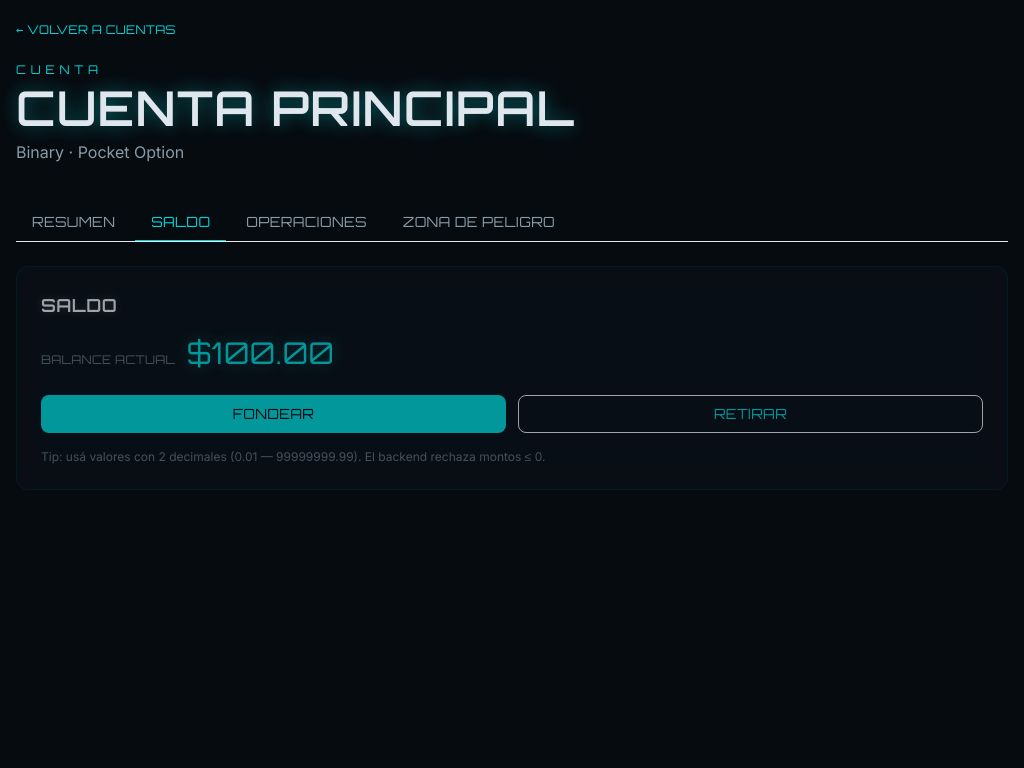
it: CuentasDetailPage › withdraw exceeding balance keeps submit disabled
Note: The first "Retirar" is the Saldo tab card — opens the modal.
Click the button "Retirar" at x=750, y=414, box [518,395,983,433]
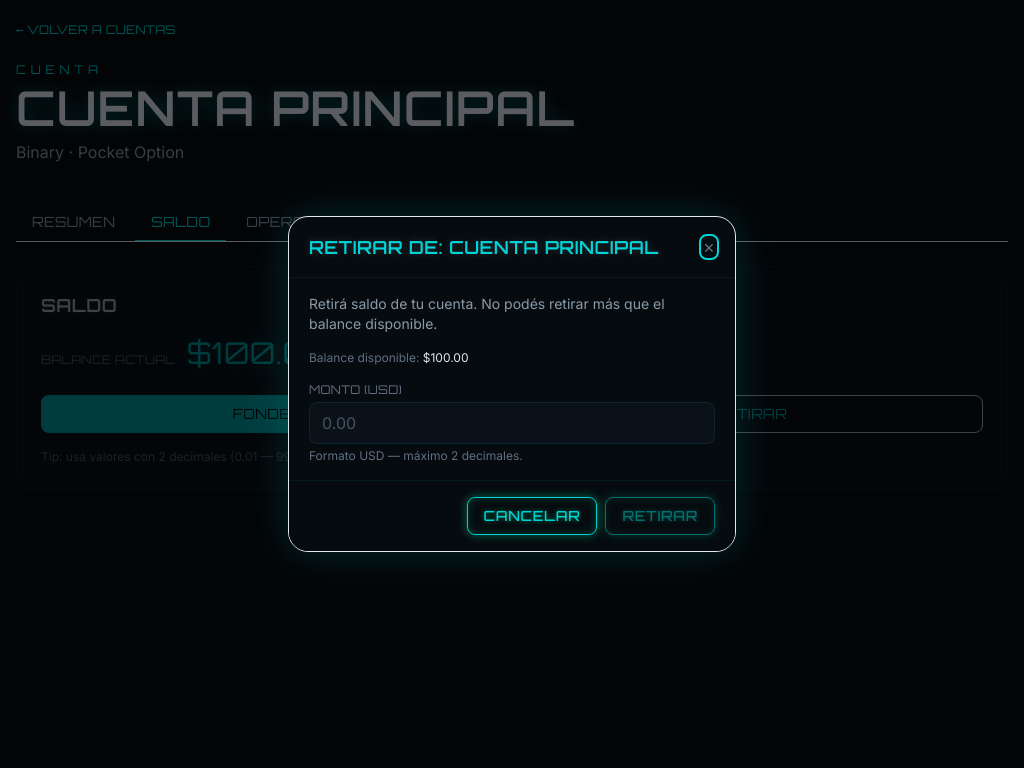
Check: the dialog "Retirar de: Cuenta principal" is shown
Type "500" into the number field labelled "Monto (USD) Formato USD — máximo 2 decimales." at x=512, y=423, box [309,402,715,444]
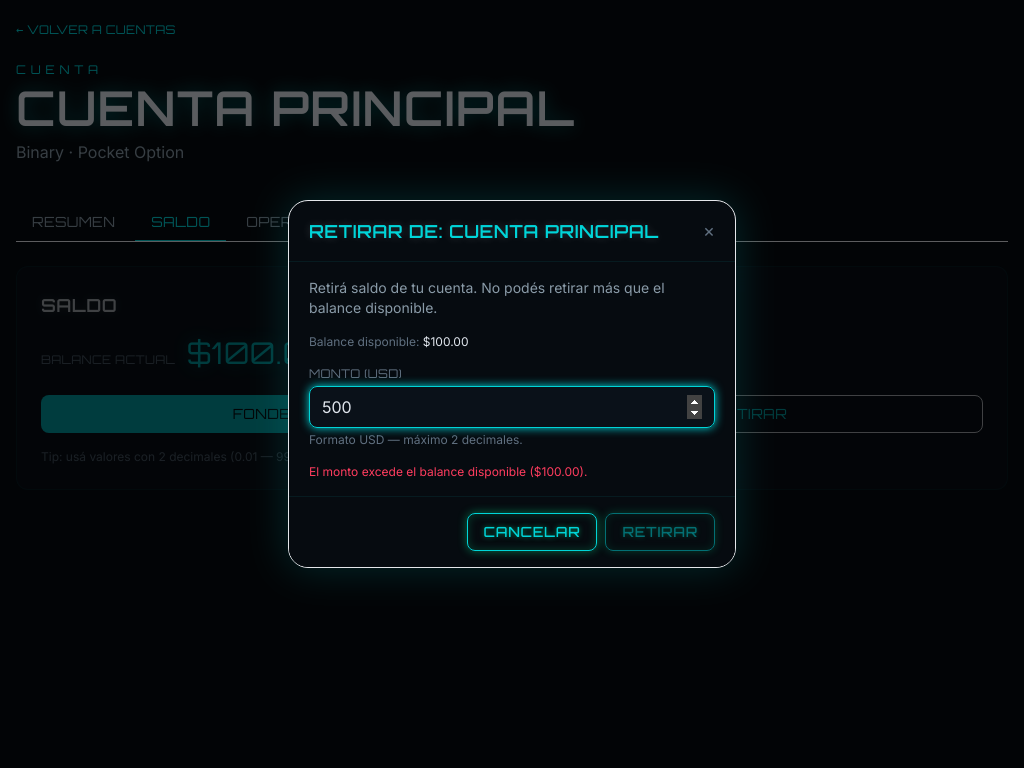
Check: the submit button is disabled, box [605,513,715,551]
Check: the text "El monto excede el balance disponible ($100.00)." is shown, box [309,464,587,479]
